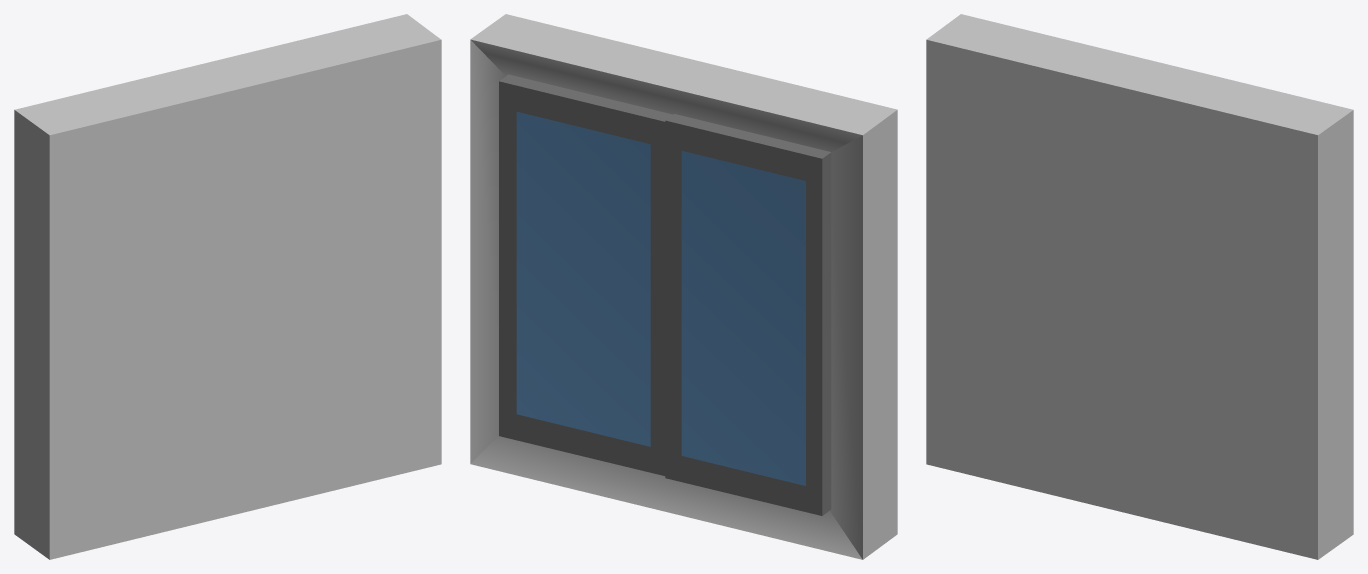
File: window.fbx
3 views of the same model, side by side, from view 1: azimuth 30°, elevation 25°; view 2: azimuth 150°, elevation 25°; view 3: azimuth 330°, elevation 25° (orthographic).
Parts seen in each view (by area): view 1: pasted__pCube5; view 2: pasted__pCube5, pasted__pasted__pCube6, pasted__pCube6; view 3: pasted__pCube5.
Part boxes in pixels (x1,y1,x2,y2): pasted__pCube5: (14,14,441,559); pasted__pCube5: (470,14,897,559); pasted__pasted__pCube6: (665,114,831,515); pasted__pCube6: (499,74,672,476); pasted__pCube5: (926,14,1353,559).
Size of the model in its own units: 4.57 by 4.73 by 0.7397.
